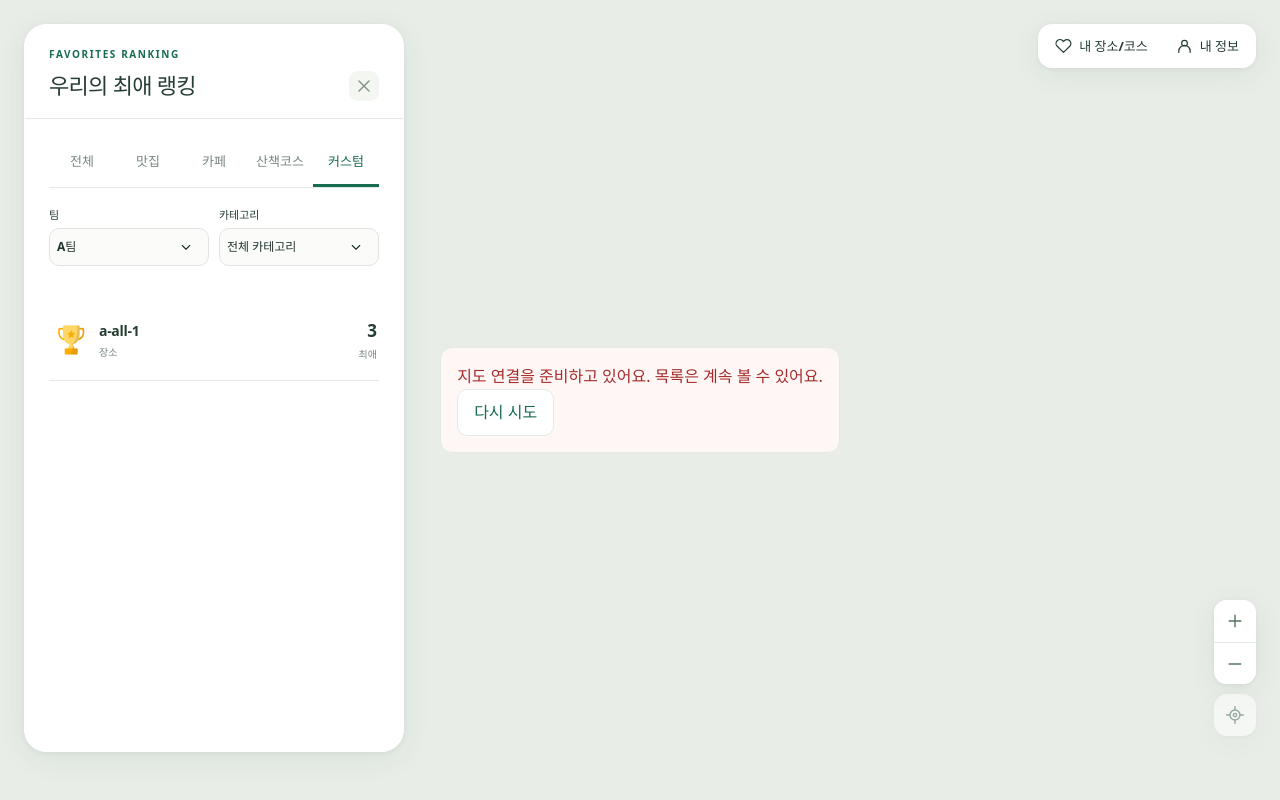
waits for my team before querying custom and never overwrites explicit all teams
Check: the link "a-all-1 장소 3 최애" is shown, box [49,300,379,380]
Select "전체 팀" in the dropdown named "팀 필터" at point(129, 247), box [49,228,209,266]
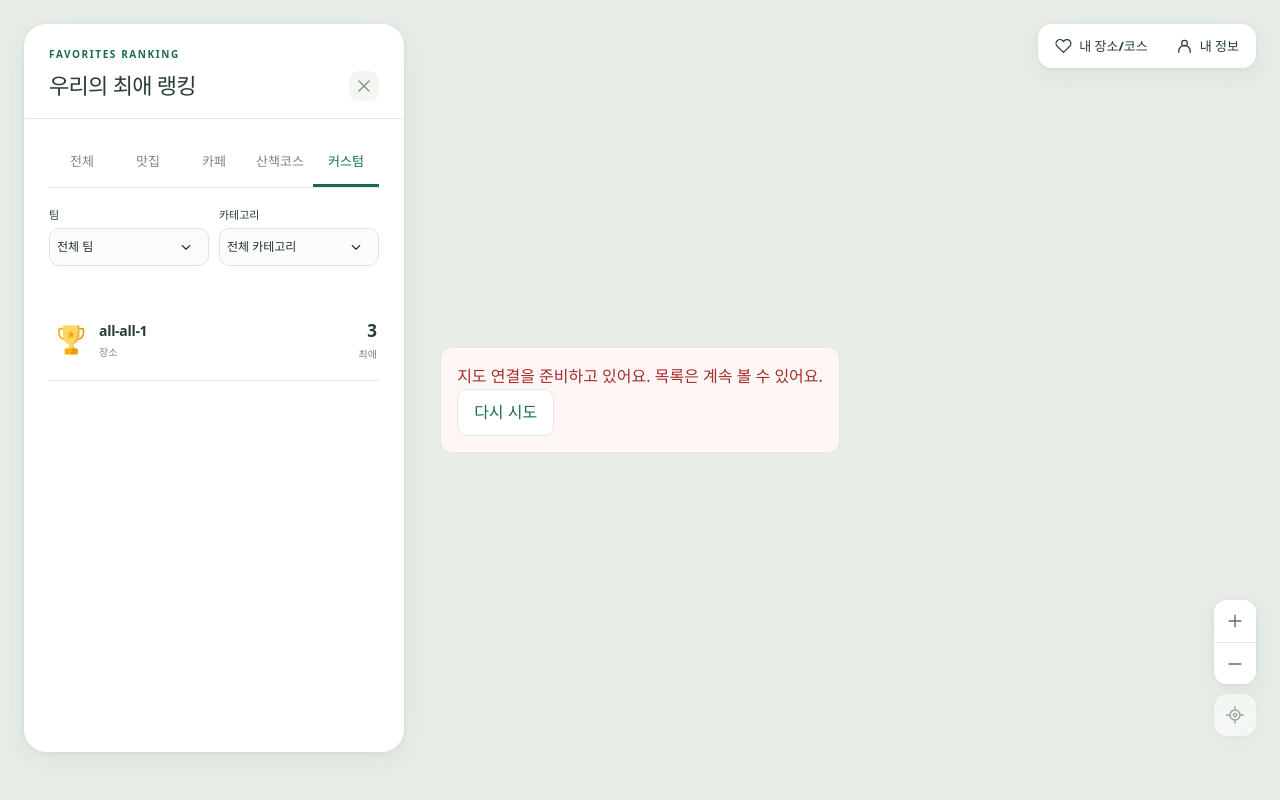
Check: the link "all-all-1 장소 3 최애" is shown, box [49,300,379,380]
